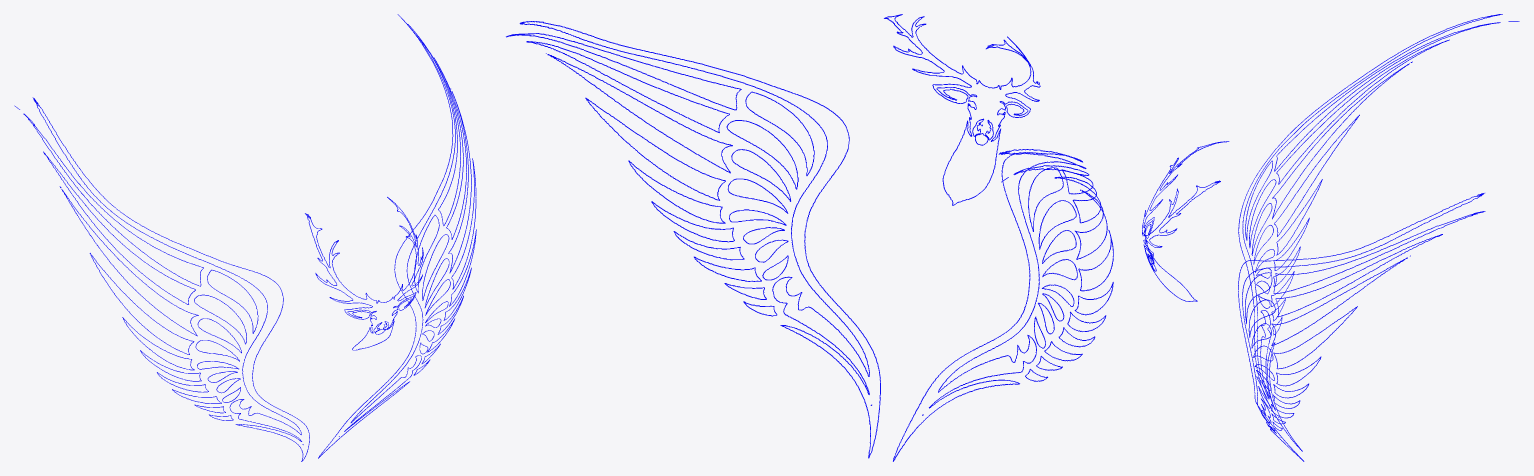
The picture shows the model from 3 angles, left to right: view 1: azimuth 30°, elevation 25°; view 2: azimuth 150°, elevation 25°; view 3: azimuth 270°, elevation 25°; orthographic projection. The views are drawn at different scales.
Size of the model in its own units: 1.61 by 1.34 by 1.3.
